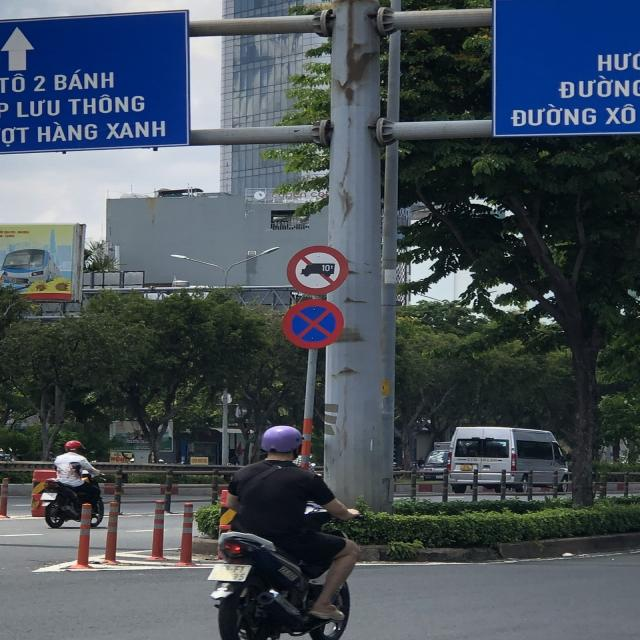Bien bao cam dung xe va do xe: (277, 295, 358, 354)
Bien bao cam xe oto tai: (282, 237, 355, 291)
